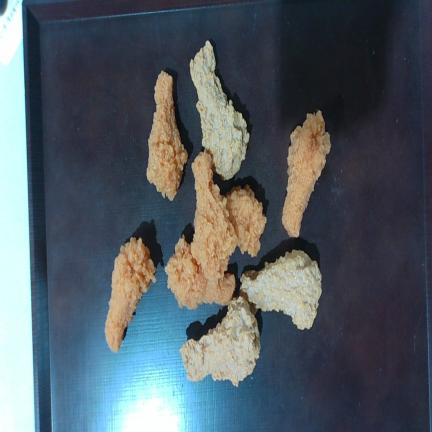chicken: (190, 41, 249, 179), (180, 296, 260, 386), (240, 250, 321, 329), (282, 110, 331, 237), (105, 238, 156, 352), (191, 152, 237, 278), (146, 71, 187, 200), (165, 235, 235, 309)
